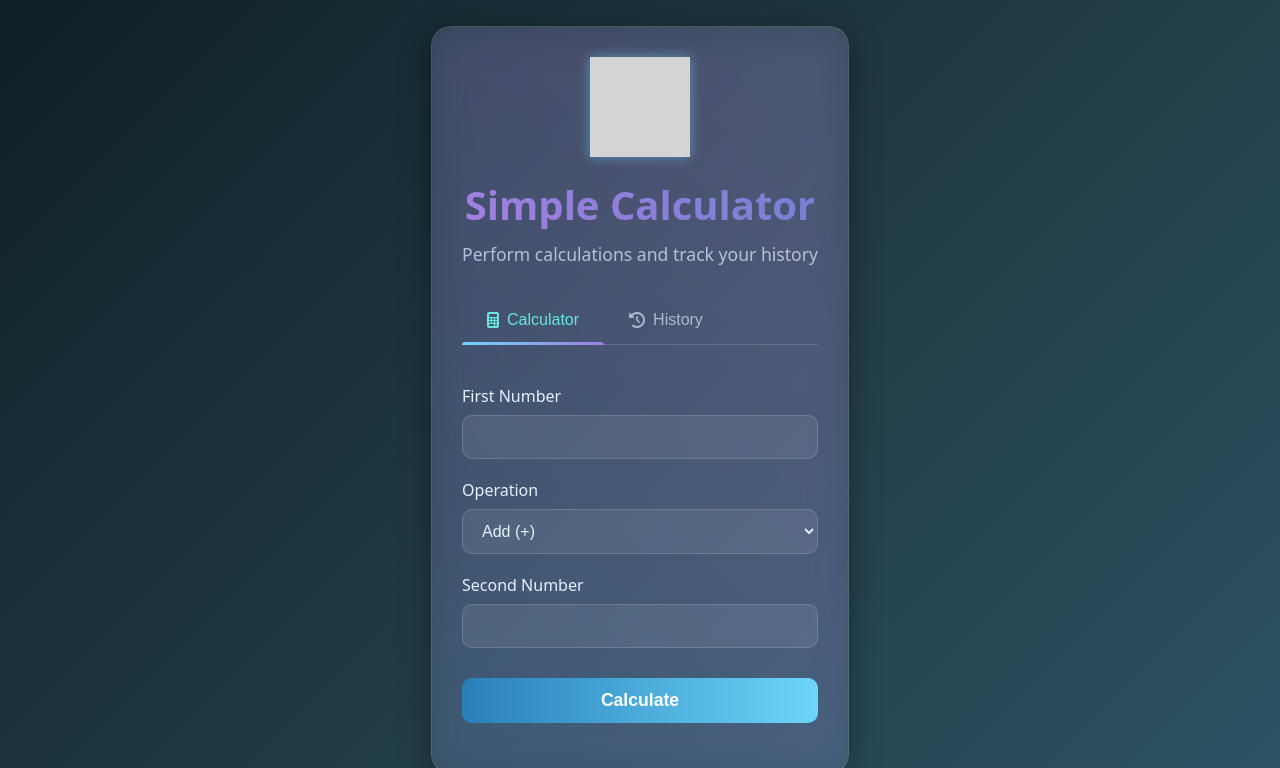
Test case: App integration › shows notification after successful calculation
Step 1. Type "5" into the field with test id "first-number-input" → x=640, y=437, box x1=462 y1=415 x2=818 y2=459
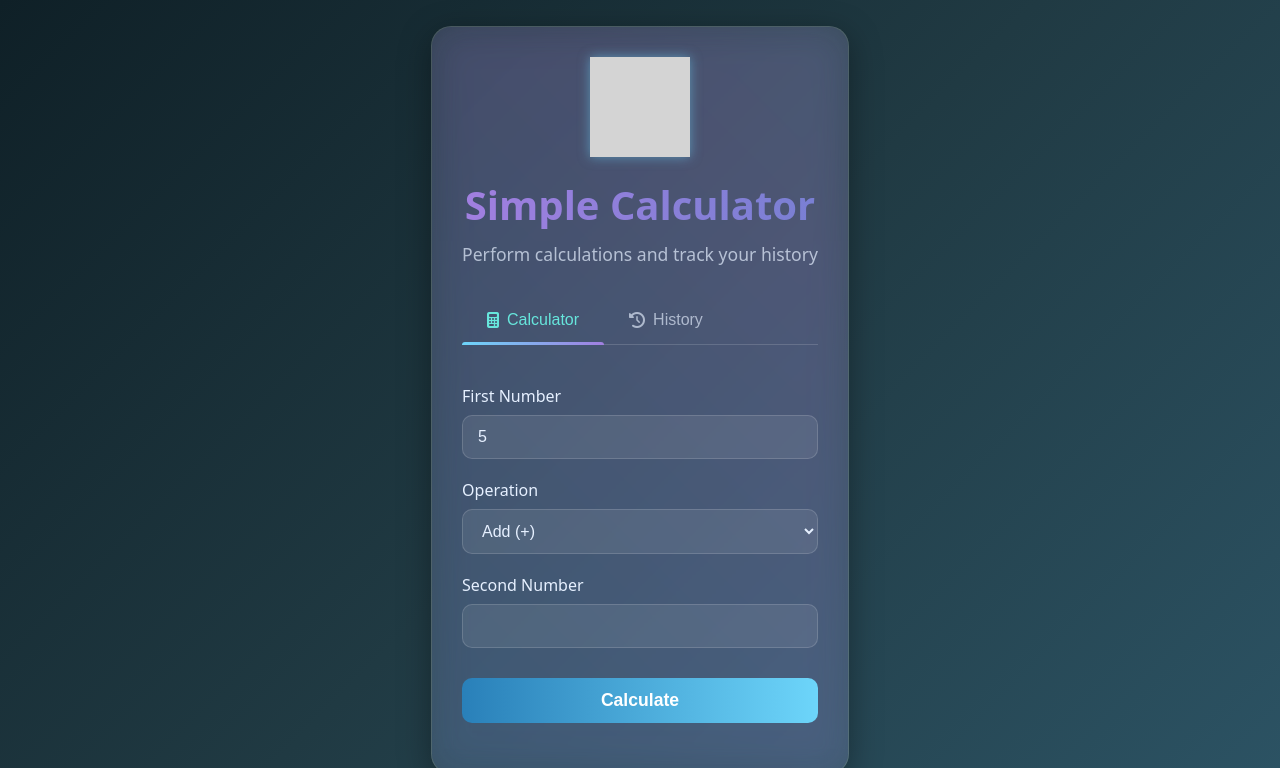
Step 2. Type "3" into the field with test id "second-number-input" → x=640, y=626, box x1=462 y1=604 x2=818 y2=648
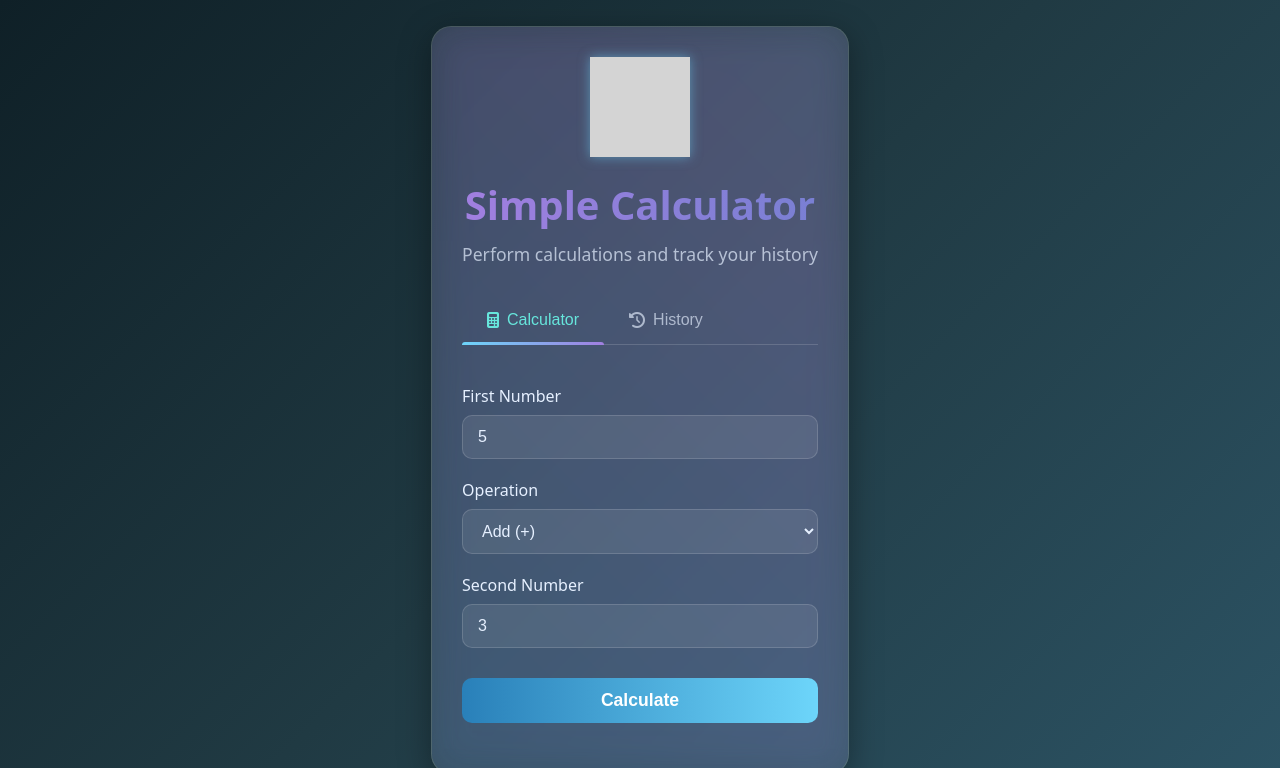
Step 3. Select "Add (+)" in the dropdown with test id "operation-select" → x=640, y=532, box x1=462 y1=509 x2=818 y2=554
Step 4. Click the button with test id "calculate-button" → x=640, y=700, box x1=462 y1=678 x2=818 y2=723
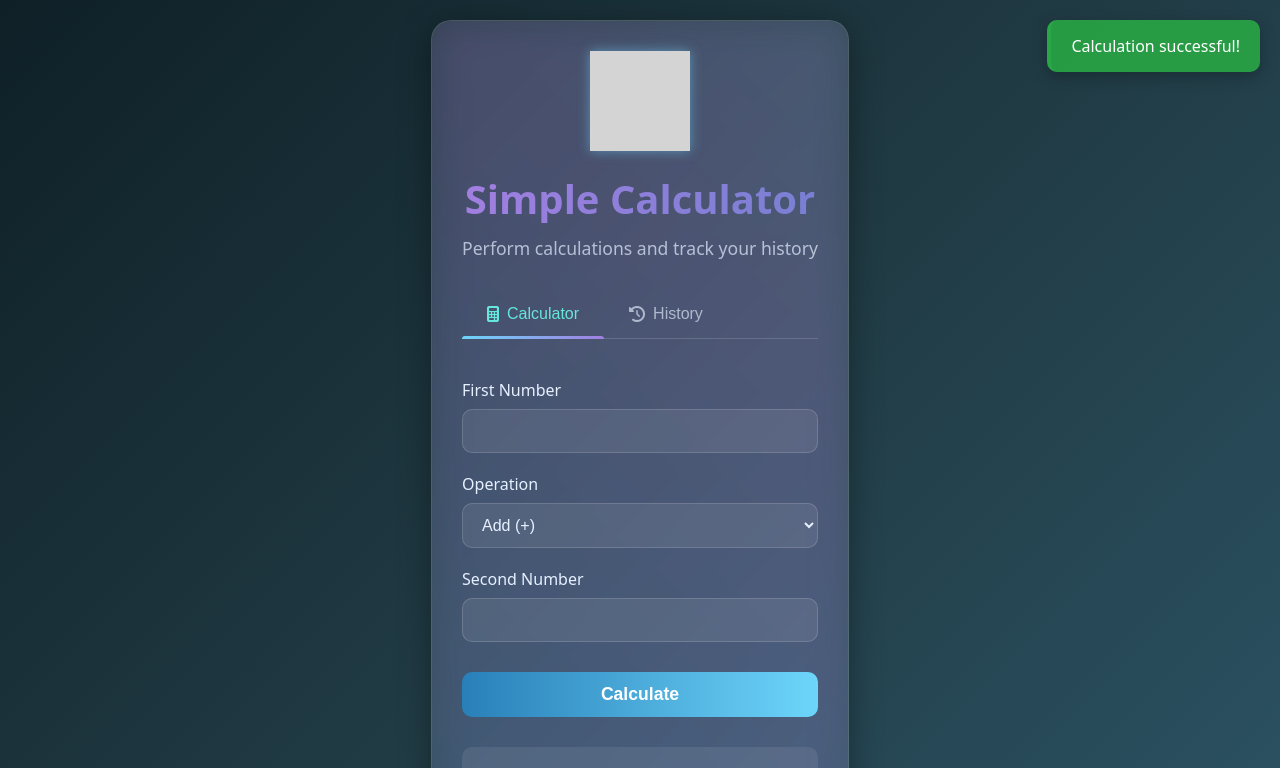
expect the text "Calculation successful!" is shown: met, box x1=1047 y1=20 x2=1260 y2=72
